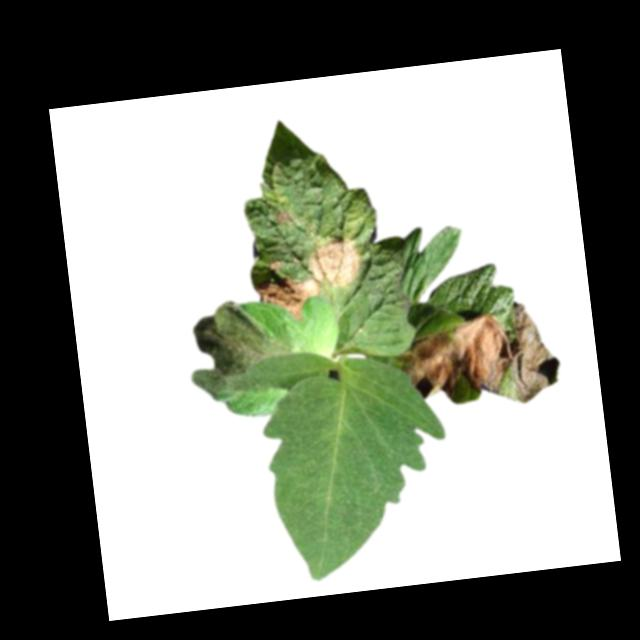Late_blight: (393, 297, 564, 418), (183, 293, 300, 401), (250, 234, 367, 325), (276, 207, 293, 220)
healthy: (225, 339, 462, 589)
